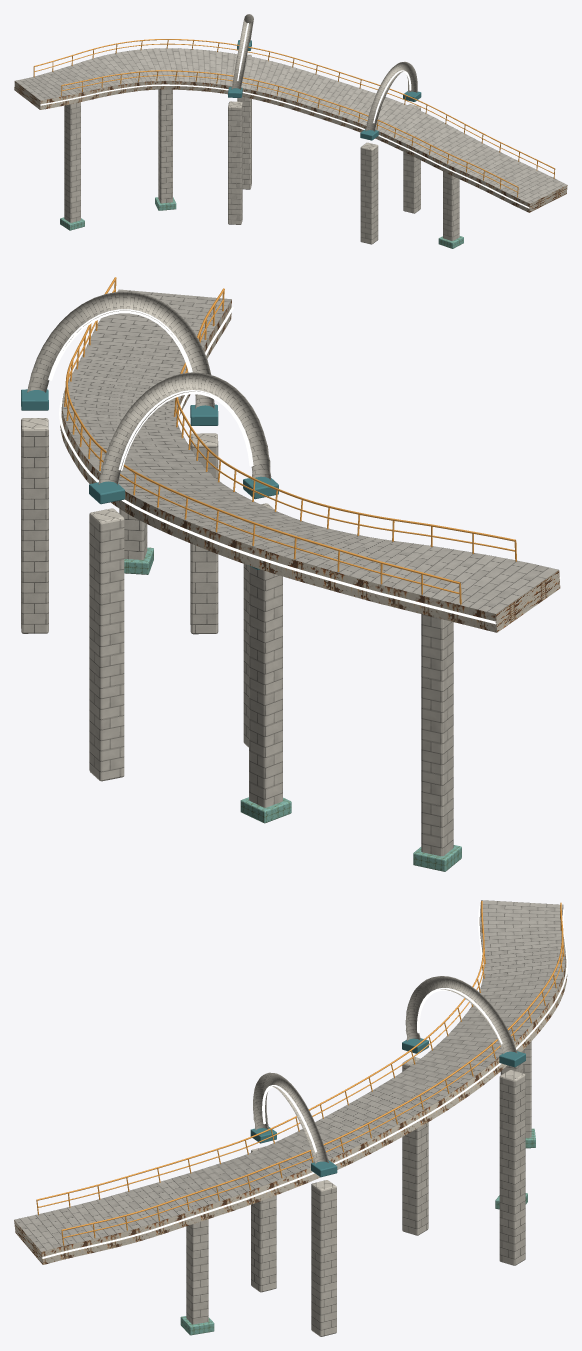
The model's file is Mock_B_to_C.glb.
The picture shows the model from 3 angles, top to bottom: view 1: azimuth 30°, elevation 25°; view 2: azimuth 150°, elevation 25°; view 3: azimuth 270°, elevation 25°; orthographic projection. The views are drawn at different scales.
Parts seen in each view (by area): view 1: Mock_B_to_C_Deck, Mock_B_to_C_Neon-1, Mock_B_to_C_SupBase9; view 2: Mock_B_to_C_Deck, Mock_B_to_C_Neon-1, Mock_B_to_C_SupBase9; view 3: Mock_B_to_C_Deck, Mock_B_to_C_Neon-1, Mock_B_to_C_SupBase9.
Boxes of the visible parts, <box> form: Mock_B_to_C_Deck: <box>14,14,567,244</box>; Mock_B_to_C_Neon-1: <box>14,23,567,208</box>; Mock_B_to_C_SupBase9: <box>60,197,463,248</box>; Mock_B_to_C_Deck: <box>21,277,560,856</box>; Mock_B_to_C_Neon-1: <box>48,307,560,624</box>; Mock_B_to_C_SupBase9: <box>124,547,461,871</box>; Mock_B_to_C_Deck: <box>14,900,567,1336</box>; Mock_B_to_C_Neon-1: <box>14,905,567,1258</box>; Mock_B_to_C_SupBase9: <box>180,1128,535,1335</box>.
Bounding box in the file's own units: 37.62 × 18.13 × 33.61.
5 materials, 3 textured.
